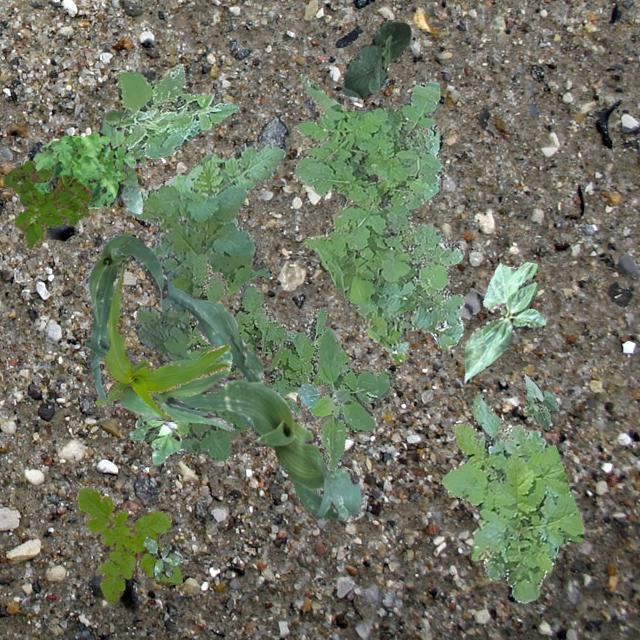crop: (137, 262, 366, 520), (94, 226, 228, 418), (82, 232, 166, 400), (462, 260, 544, 382), (116, 350, 232, 430), (340, 21, 410, 98), (522, 372, 558, 428)
weed: (123, 140, 284, 460), (294, 72, 464, 362), (440, 392, 582, 602), (184, 252, 326, 394), (296, 326, 392, 471), (75, 484, 182, 604), (104, 61, 236, 158), (31, 130, 136, 208), (2, 160, 92, 250), (99, 111, 144, 213), (128, 414, 188, 464), (142, 536, 182, 580), (282, 398, 298, 410)
